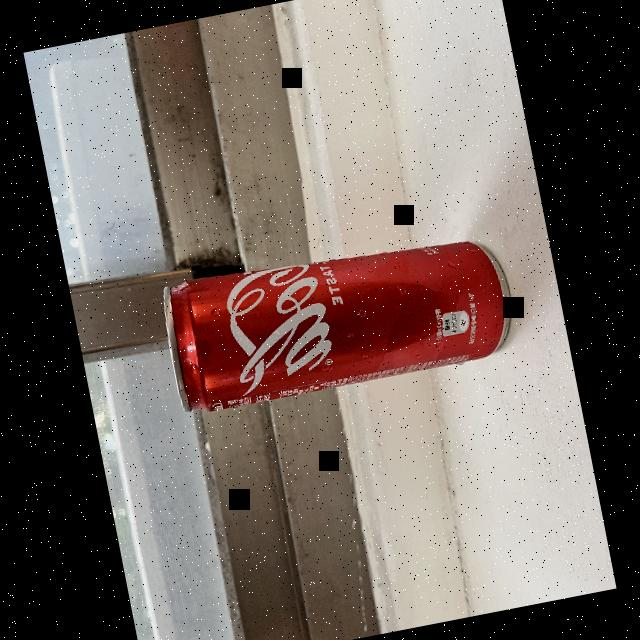can: (153, 216, 528, 424)
